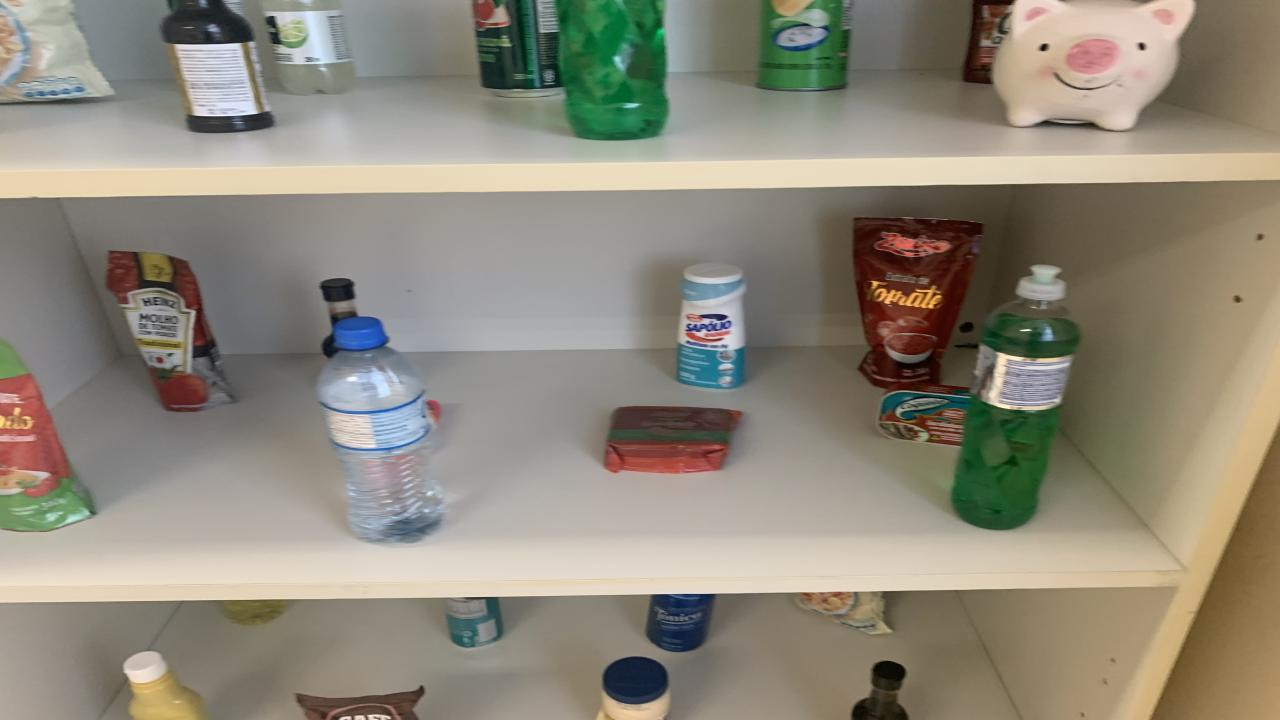Cleaner-Cleanup_Items: (678, 264, 745, 388)
Coffee-Pantry_Items: (295, 686, 425, 720)
Detergent-Cleanup_Items: (952, 264, 1080, 529), (560, 0, 668, 141), (222, 600, 288, 626)
English_Sauce-Pantry_Items: (160, 0, 275, 133), (852, 662, 908, 720), (320, 278, 358, 326), (322, 334, 338, 358)
Flakes-Snacks: (795, 592, 892, 634)
Guarana_Can-Drinks: (472, 0, 562, 96)
Guava-Snacks: (605, 407, 742, 472)
Ketchup-Pantry_Items: (962, 0, 1012, 82)
Mayonnaise-Pantry_Items: (598, 656, 670, 720)
Mustard-Pantry_Items: (122, 651, 210, 720)
Pig_Safe-Miscellaneous: (992, 0, 1195, 131)
Pringles-Snacks: (758, 0, 852, 90)
Soda-Drinks: (262, 0, 355, 94)
Tea-Drinks: (445, 598, 502, 647)
Tomato_Sauce-Pantry_Items: (852, 218, 982, 386), (108, 251, 235, 411), (0, 339, 95, 531)
Tonic-Drinks: (645, 594, 715, 652)
Tuna_Can-Pantry_Items: (878, 384, 970, 446)
Water_Bottle-Drinks: (318, 343, 445, 542), (335, 317, 385, 343)
